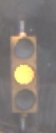Yellow: (5, 28, 48, 128)
